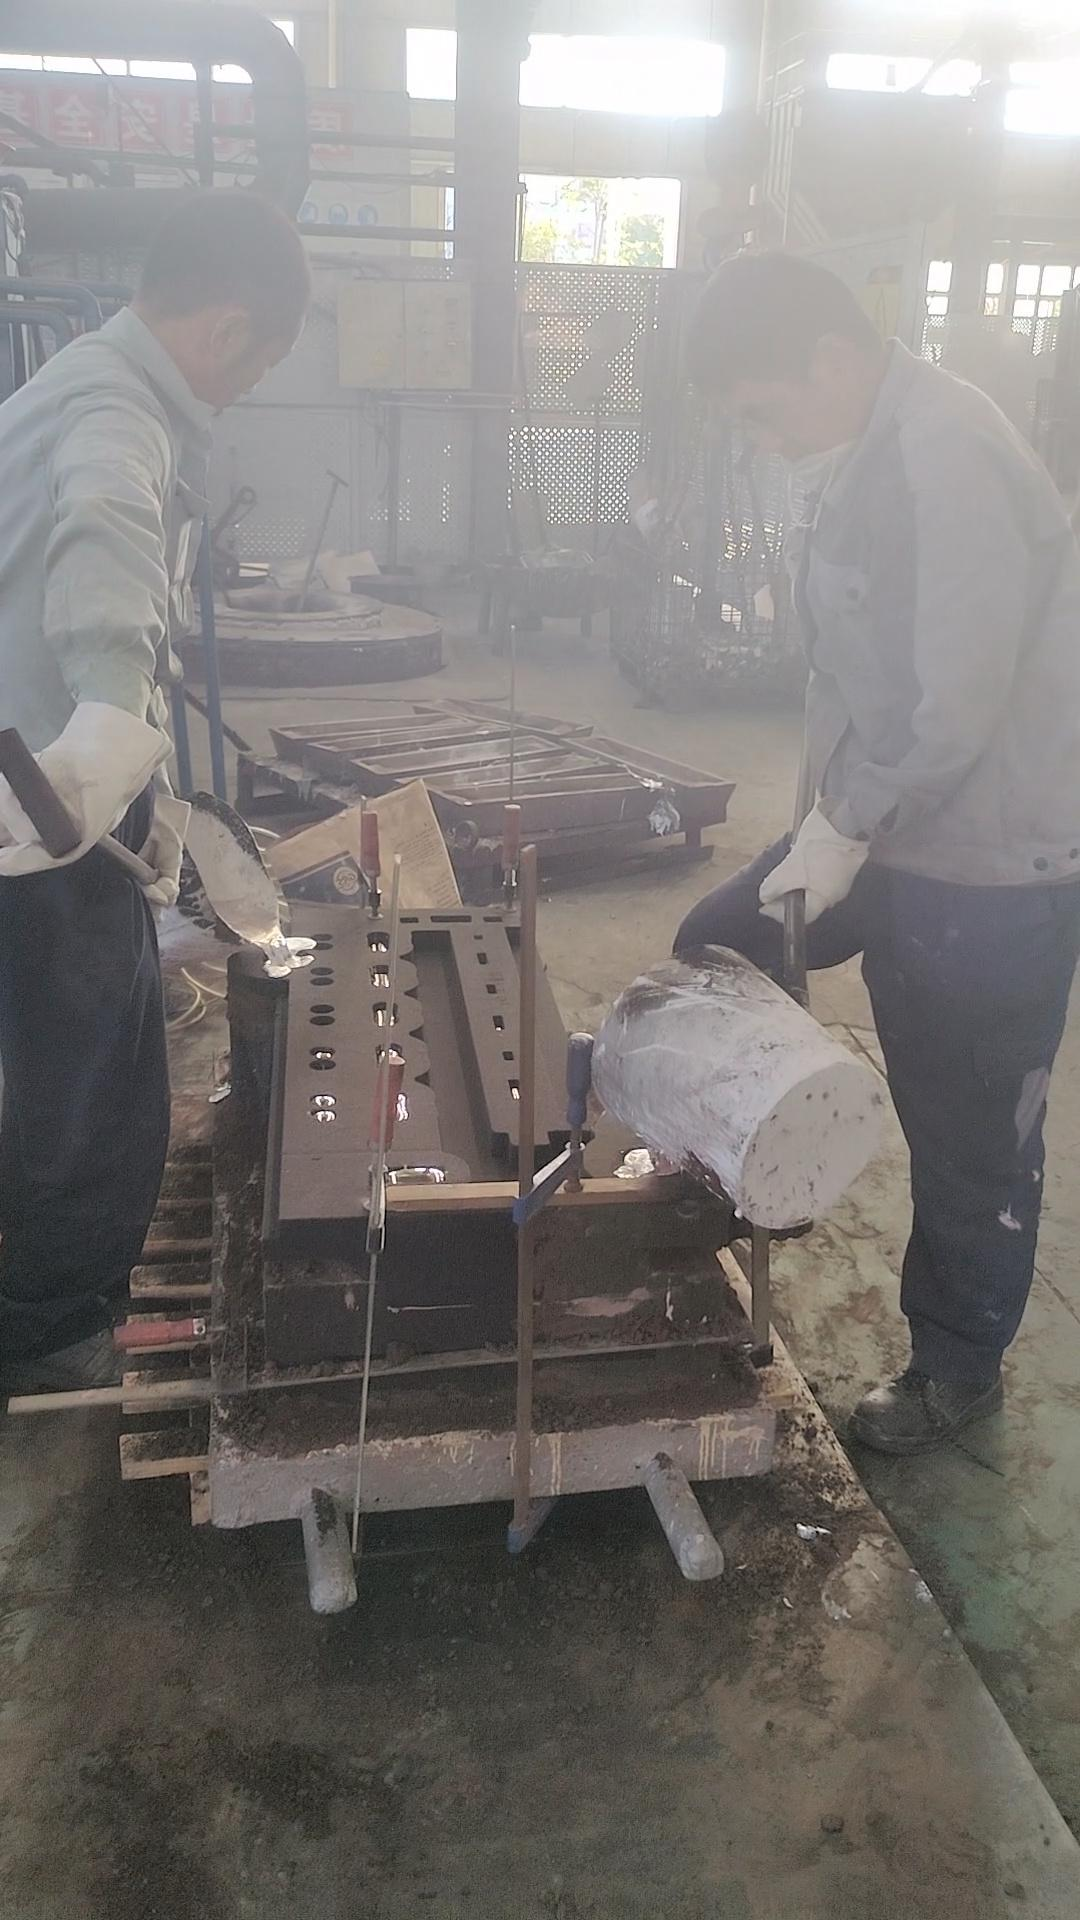pouring hole: (622, 1145, 686, 1178), (262, 949, 305, 971)
